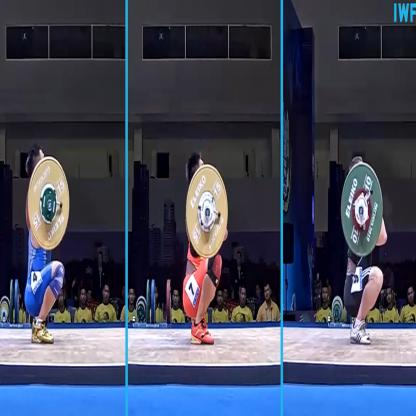Barbell: (25, 147, 71, 262), (340, 156, 388, 263), (185, 157, 229, 259)
